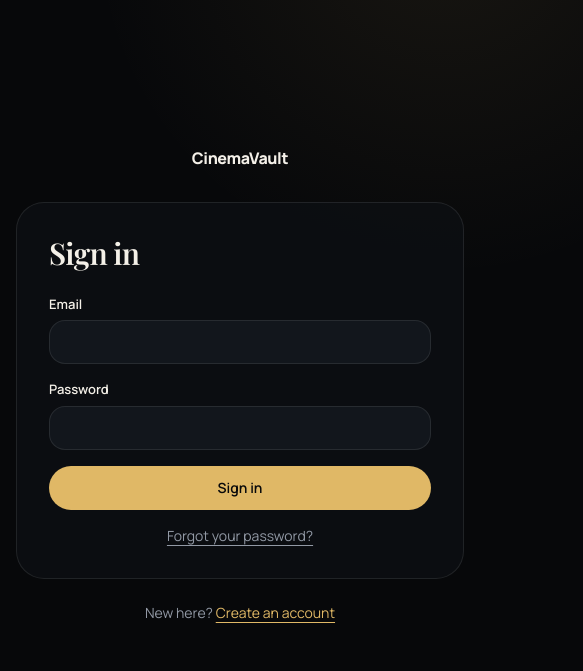
Test: sign in › a wrong password gives one generic message and signs nobody in
Expected: the heading "Sign in" is shown, [49,232,139,272]
Type "owner@example.com" into the field labelled "Email" at (240, 342), box [49,320,431,364]
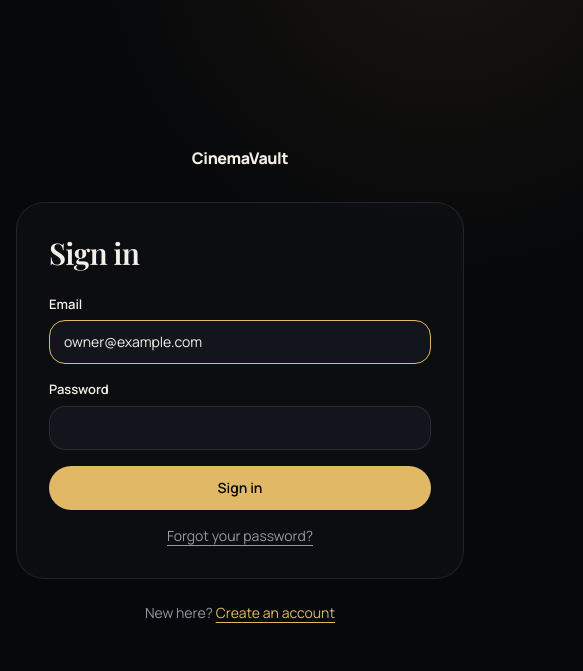
Type "nope" into the password field labelled "Password" at (240, 428), box [49,406,431,450]
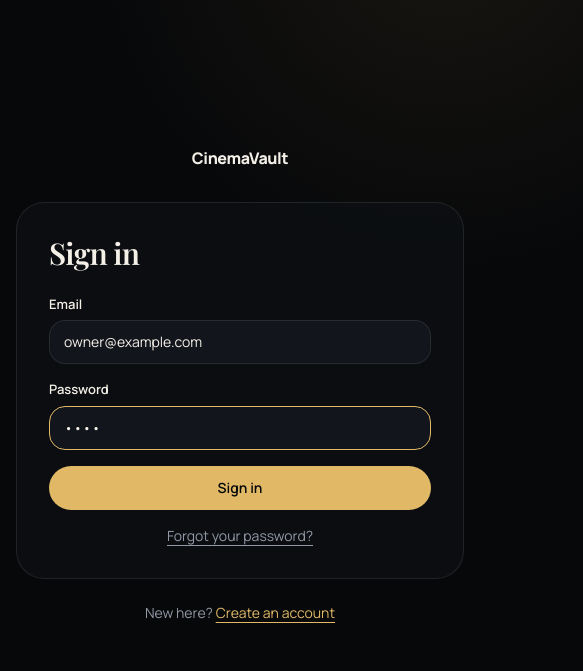
Click the button "Sign in" at (240, 488), box [49,466,431,510]
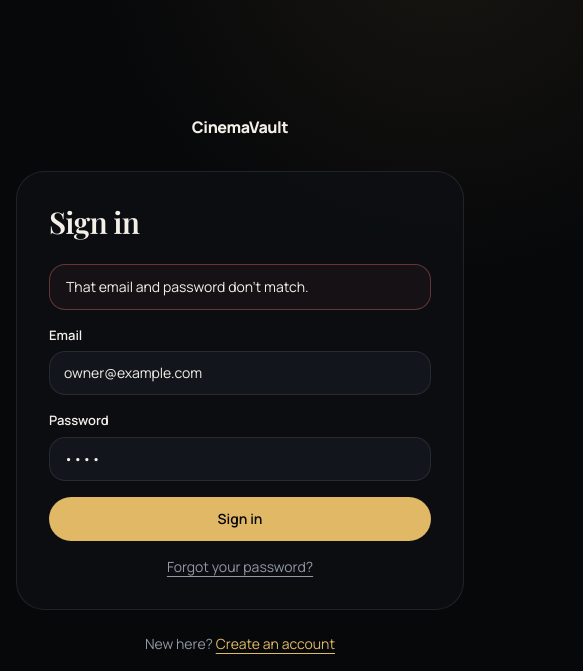
Expected: the heading "Sign in" is shown, [49,202,139,242]
Now the message reads "That email and password don’t match.", box [66,276,309,296]
